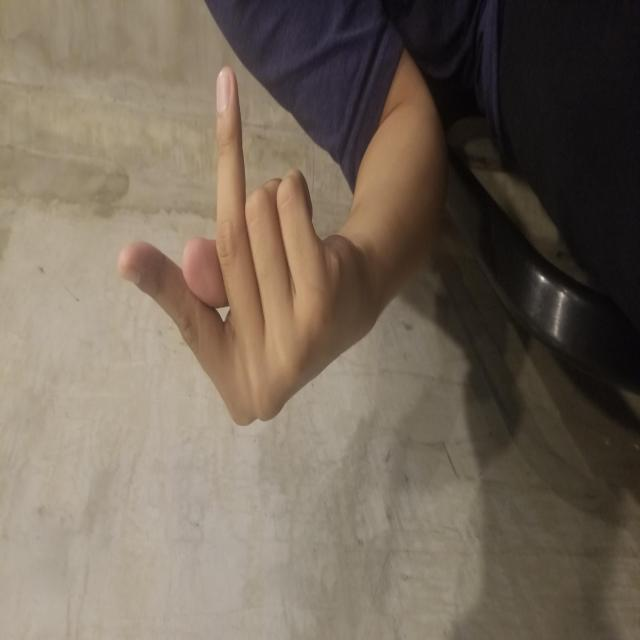K: (210, 117, 577, 369)
